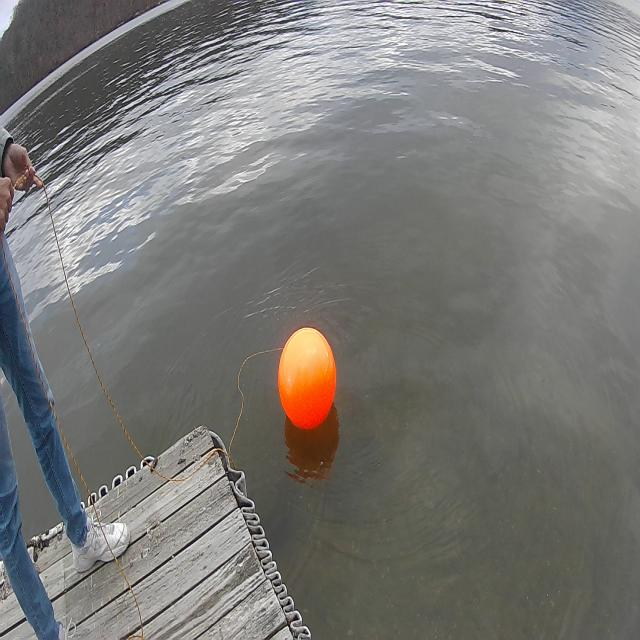Buoy: (277, 324, 339, 432)
